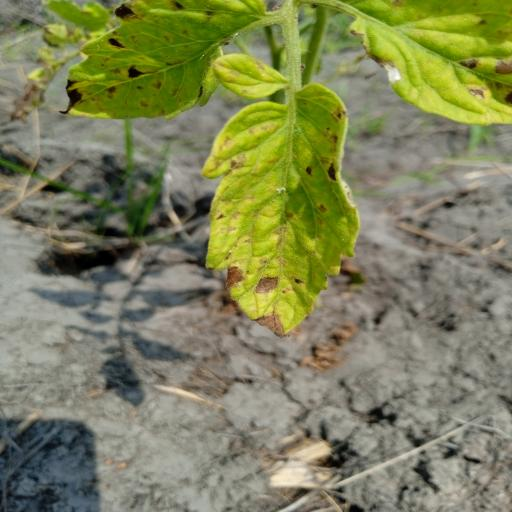Tomato_Brown_Spots: (202, 82, 363, 341), (62, 0, 262, 122), (342, 0, 512, 125)
